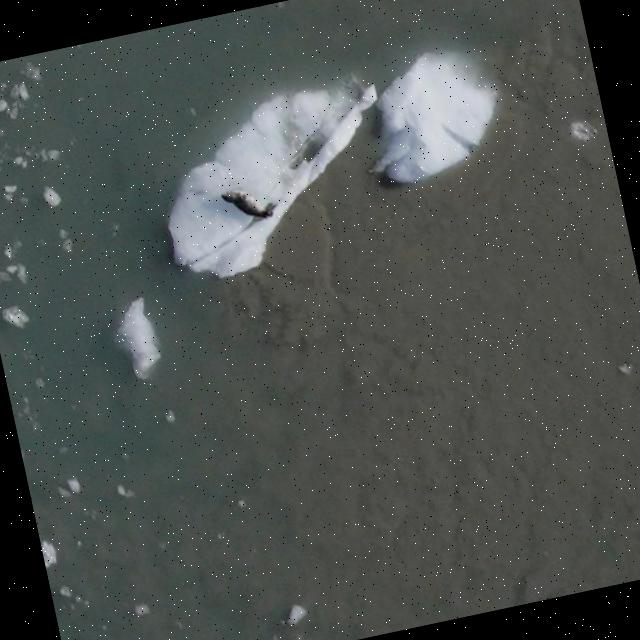seal: (217, 179, 277, 224)
